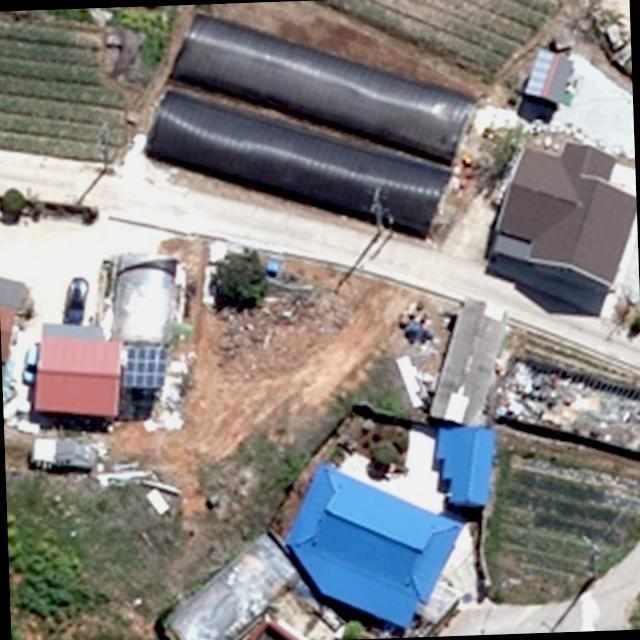solar: (119, 344, 172, 392)
